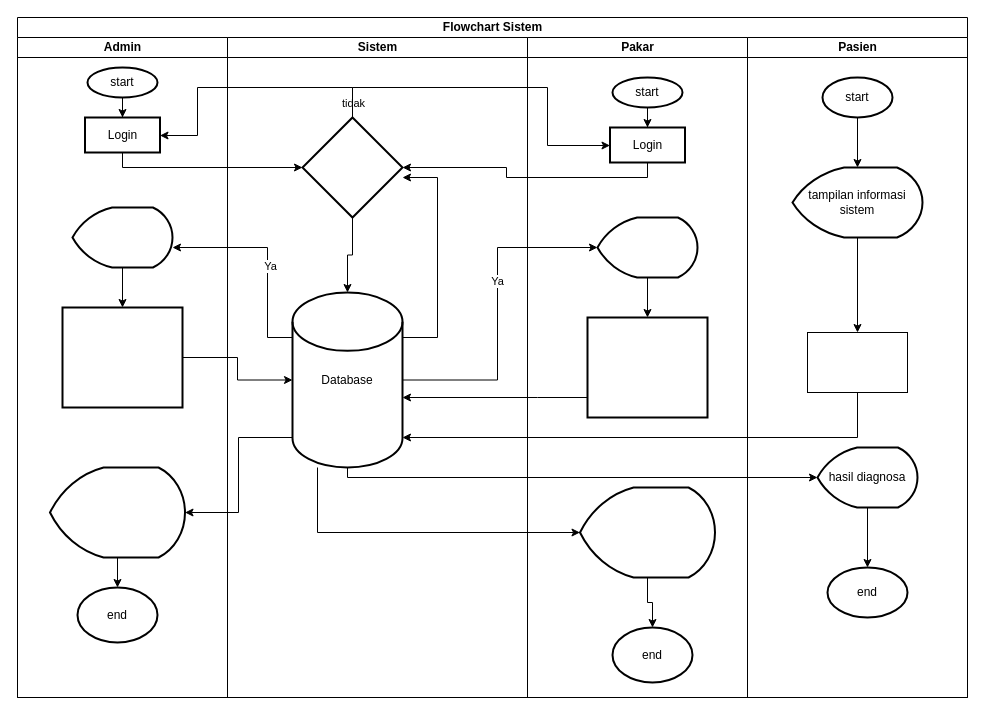
This 985x715 diagram has some shape labels left out. Here are the shapes that lost their labels. From the top down, the centre of each, then its label:
At point 352,167: "Verifikasi login".
At point 122,237: "Dashboard admin".
At point 647,247: "Dashboard pakar".
At point 122,357: "Kelola data: - Data Kondisi - Data Faktor - Data admin - Data Pasien".
At point 647,367: "Kelola data: - Data Kondisi - Data Faktor - Data pakar - Data rule".
At point 857,362: "Melakukan konsultasi".
At point 117,512: "informasi: - Data Kondisi - Data Faktor - Data admin - Data Pasien - data pakar".
At point 647,532: "informasi: - Data Kondisi - Data Faktor - Data Pasien - data pakar".
